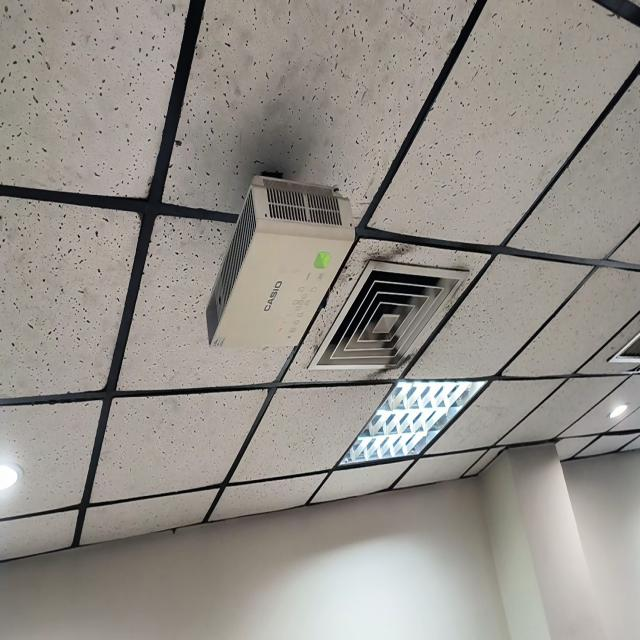Light: (339, 380, 485, 465), (0, 465, 18, 491), (609, 404, 628, 418)
Projector: (206, 175, 355, 348)
